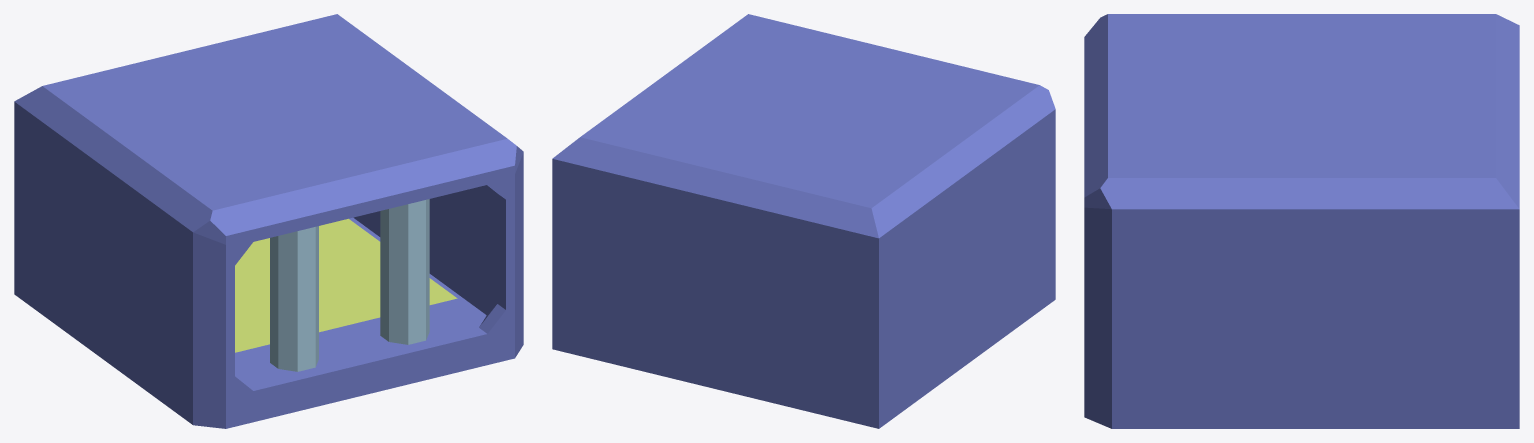
File: cage.fbx
3 views of the same model, side by side, from view 1: azimuth 30°, elevation 25°; view 2: azimuth 150°, elevation 25°; view 3: azimuth 270°, elevation 25° (orthographic). The views are drawn at different scales.
Visible parts, largest first — view 1: cage.001; view 2: cage.001; view 3: cage.001.
Part boxes in pixels (x1,y1,x2,y2): cage.001: (14, 14, 523, 428); cage.001: (552, 14, 1055, 428); cage.001: (1084, 14, 1519, 428).
Size of the model in its own units: 103 by 62.86 by 103.
